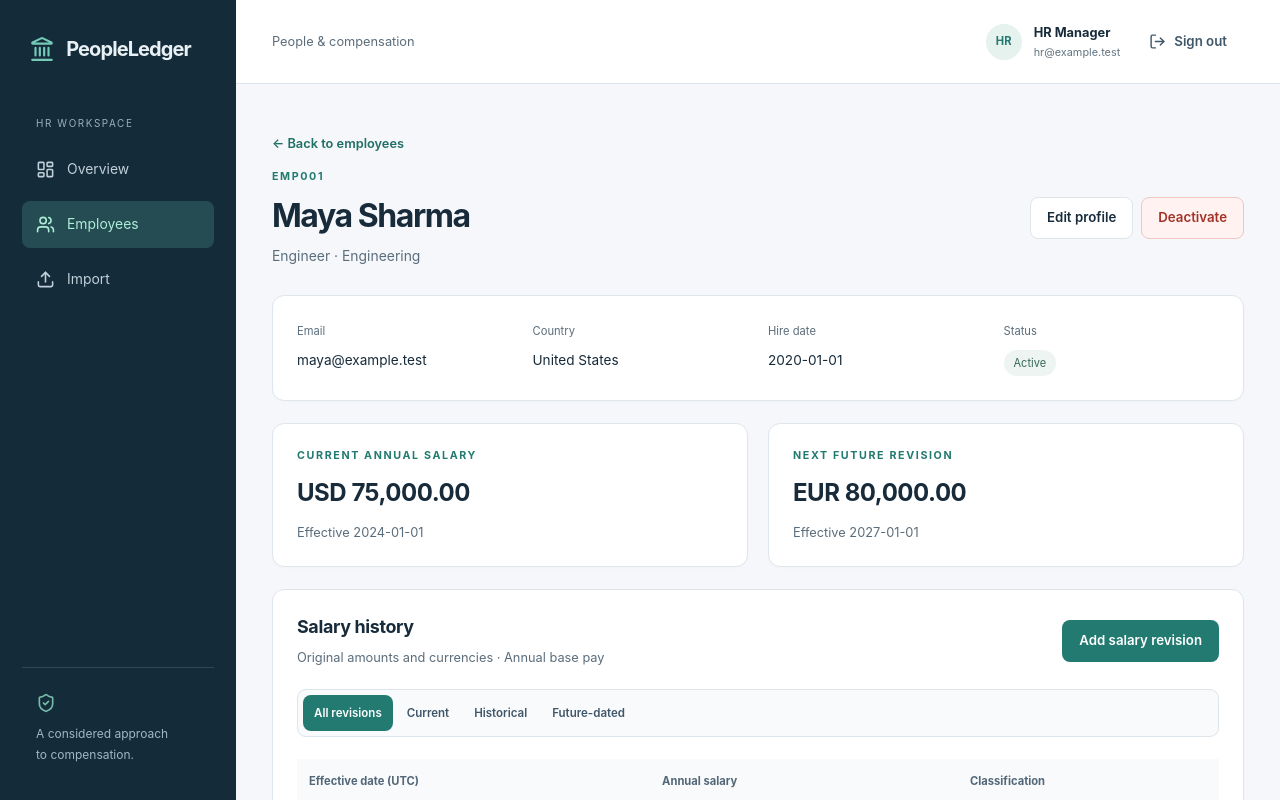
employee and salary flows › edits master information without sending salary or immutable code fields
Expected: the heading "Maya Sharma" is shown, x1=272 y1=196 x2=470 y2=236
Click the button "Edit profile" at point(1082, 218), box x1=1030 y1=197 x2=1133 y2=239
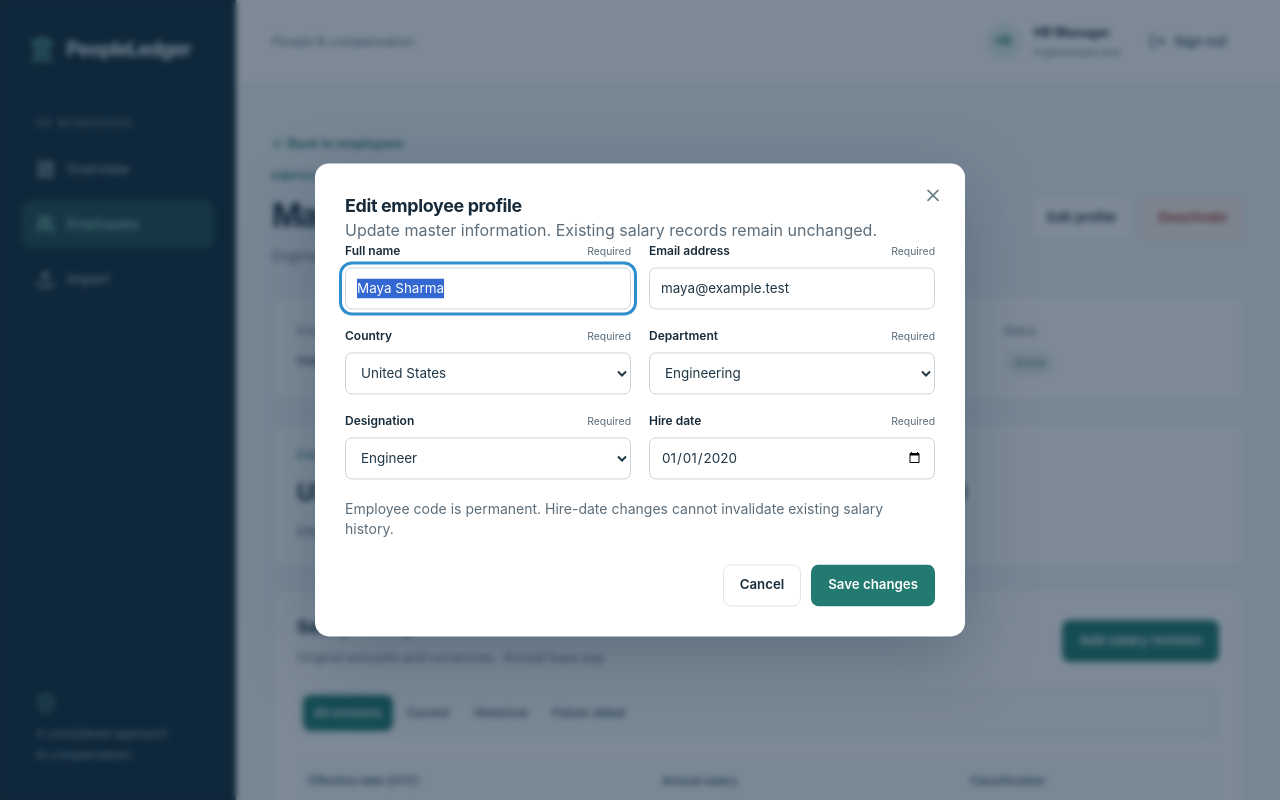
Replace the text in the field labelled "Full name" with "Maya Updated" at point(488, 288), box x1=345 y1=268 x2=631 y2=310
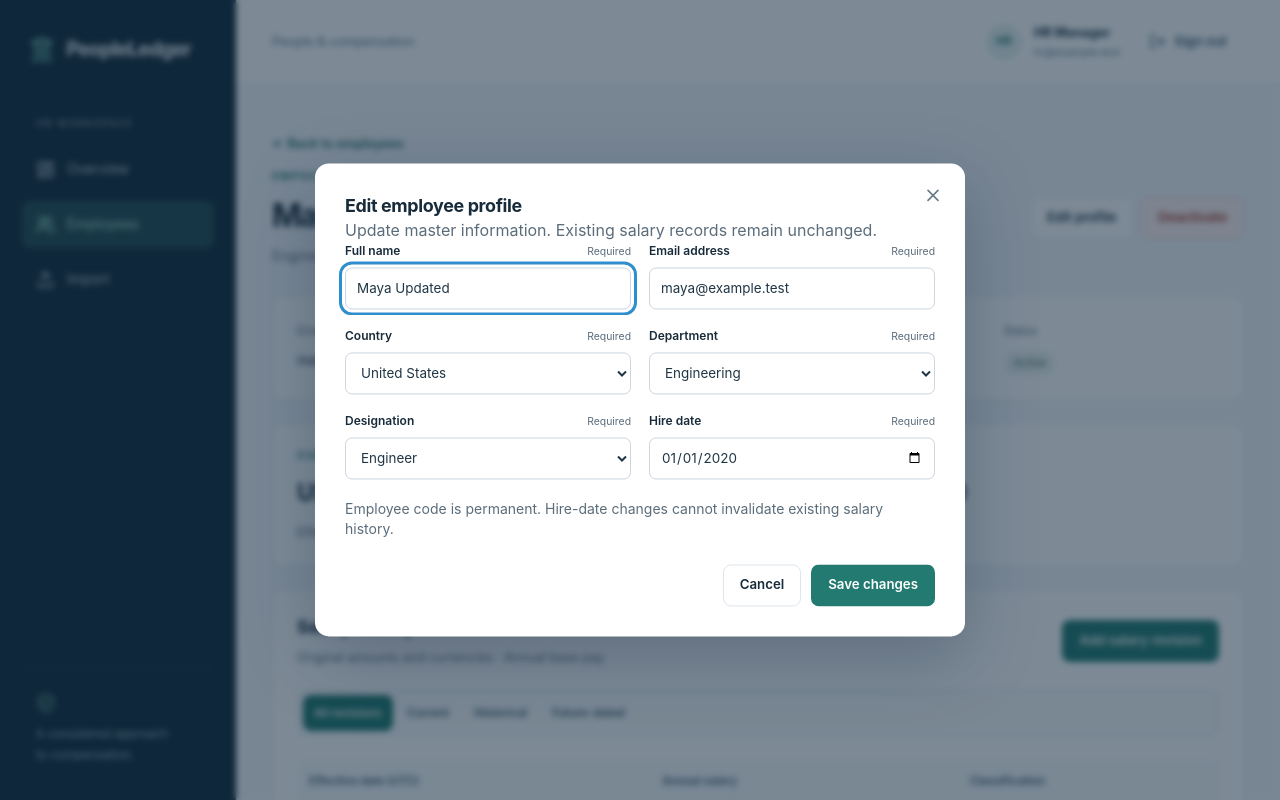
Click the button "Save changes" at point(873, 586), box x1=811 y1=564 x2=935 y2=606
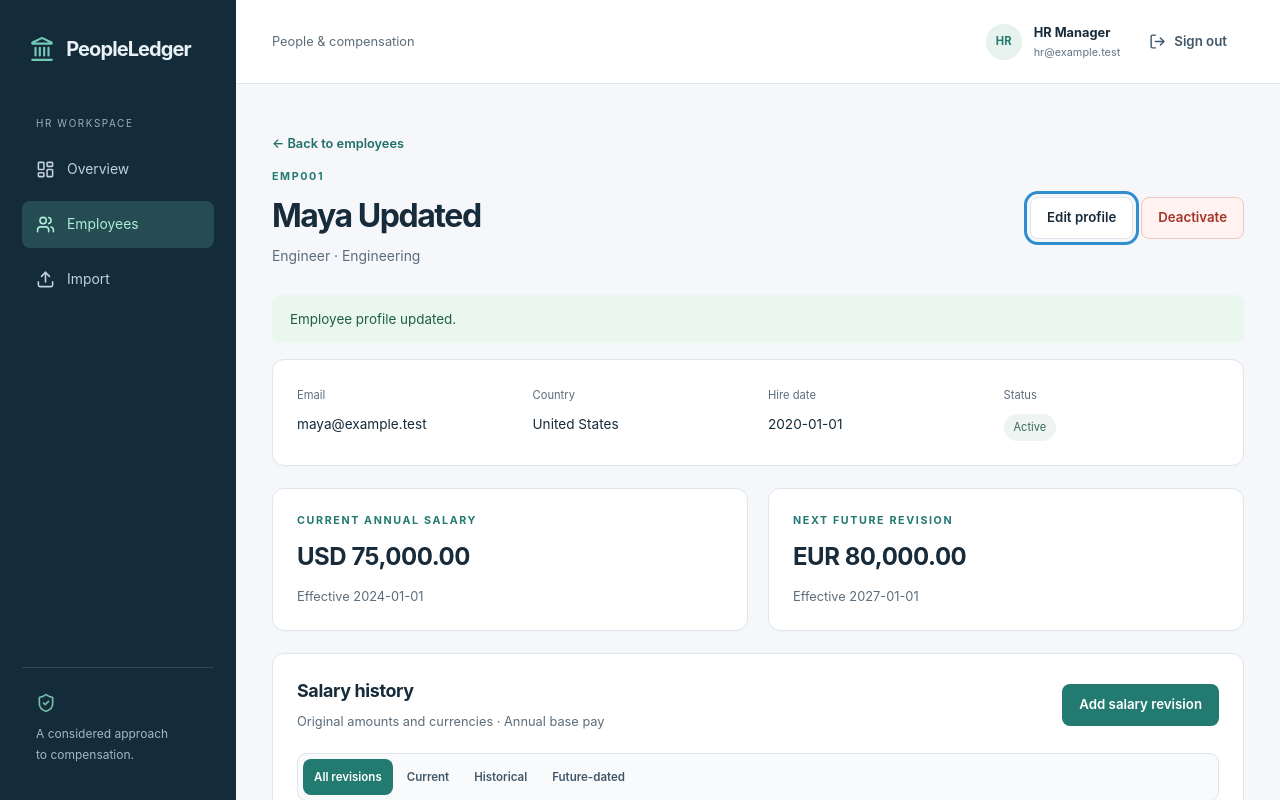
Result: the heading "Maya Updated" is shown at x1=272 y1=196 x2=481 y2=236
